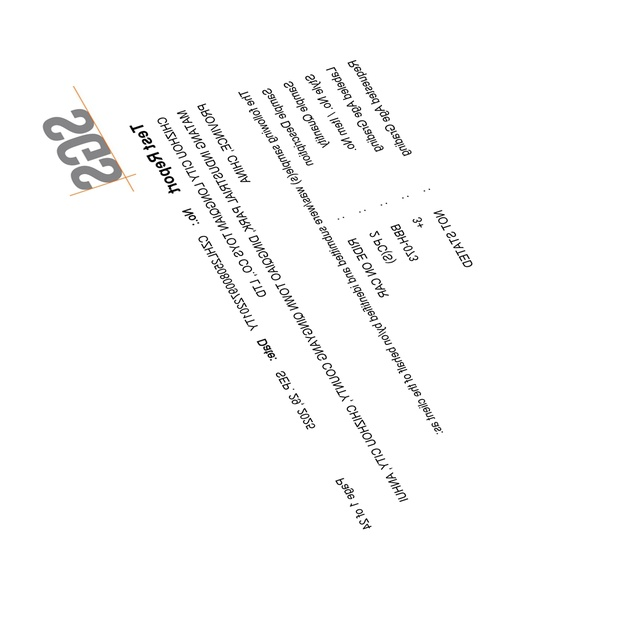sgs: (42, 109, 124, 191)
